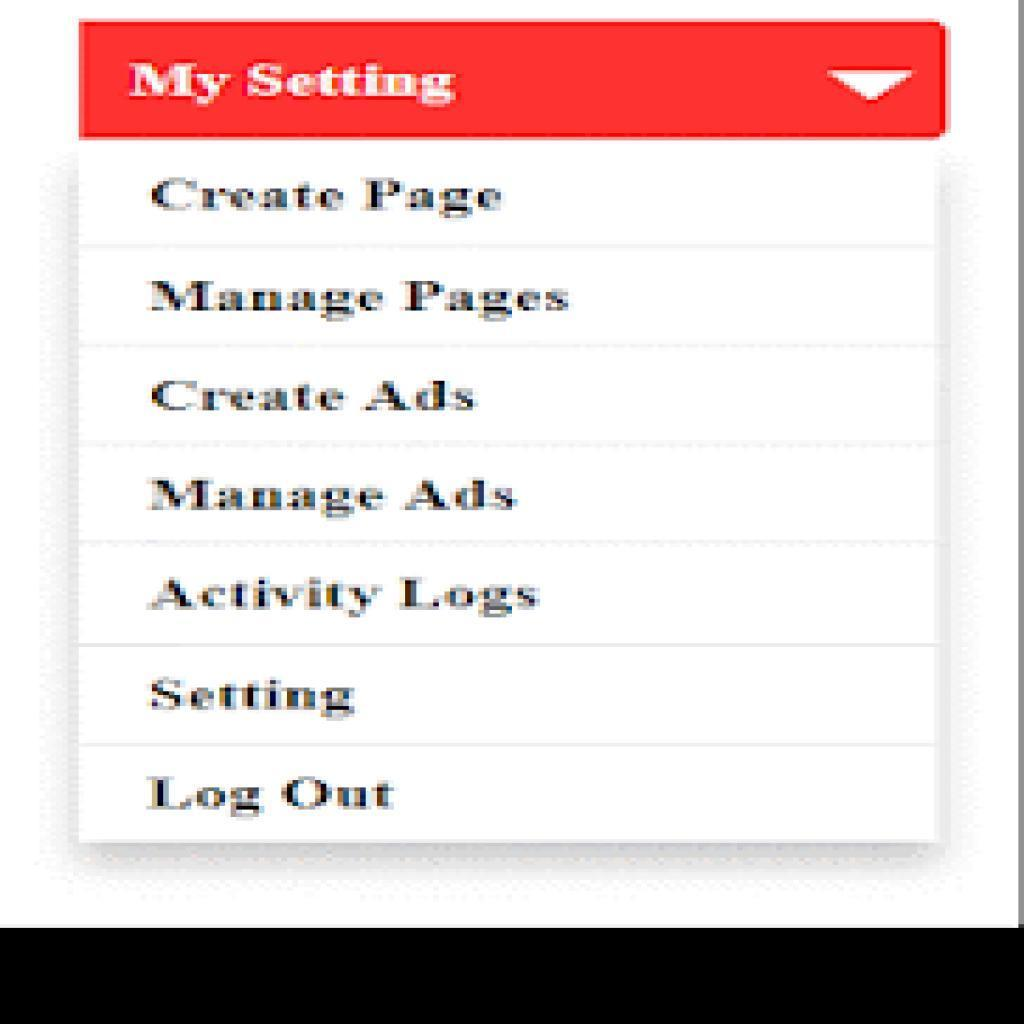dropdown: (81, 27, 948, 137)
